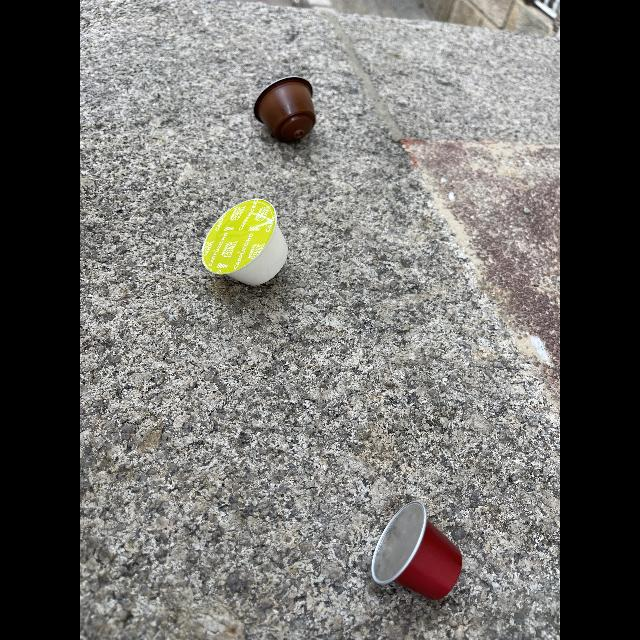intact_capsule: (361, 492, 471, 610), (192, 188, 294, 302), (251, 75, 319, 147)
